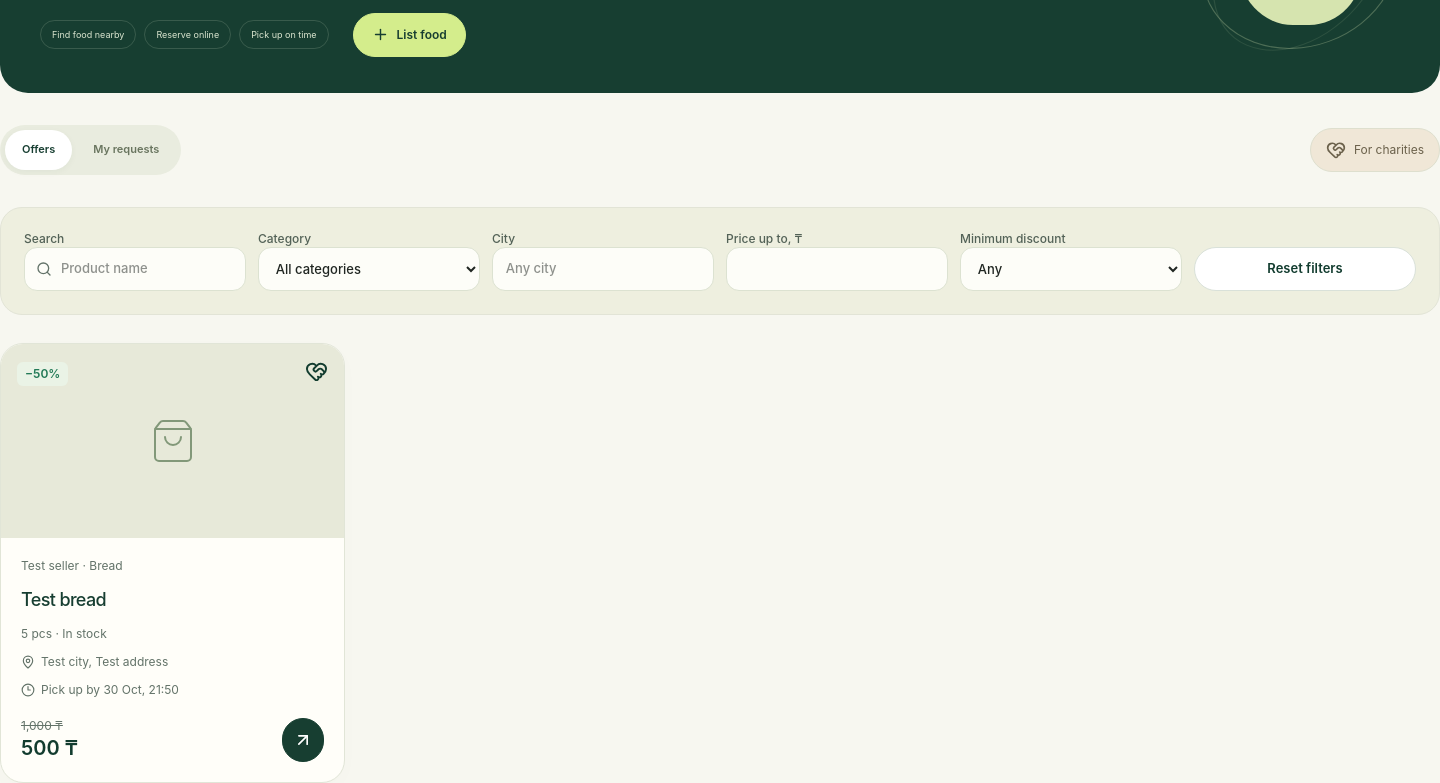
Test: SAVE in en › retries a reservation with the same key and translates backend errors and confirmation
This screenshot has width=1440, height=783.
(page scrolled)
Click the button named "View offer".
click(303, 740)  # box top-left (282, 718), bottom-right (324, 762)
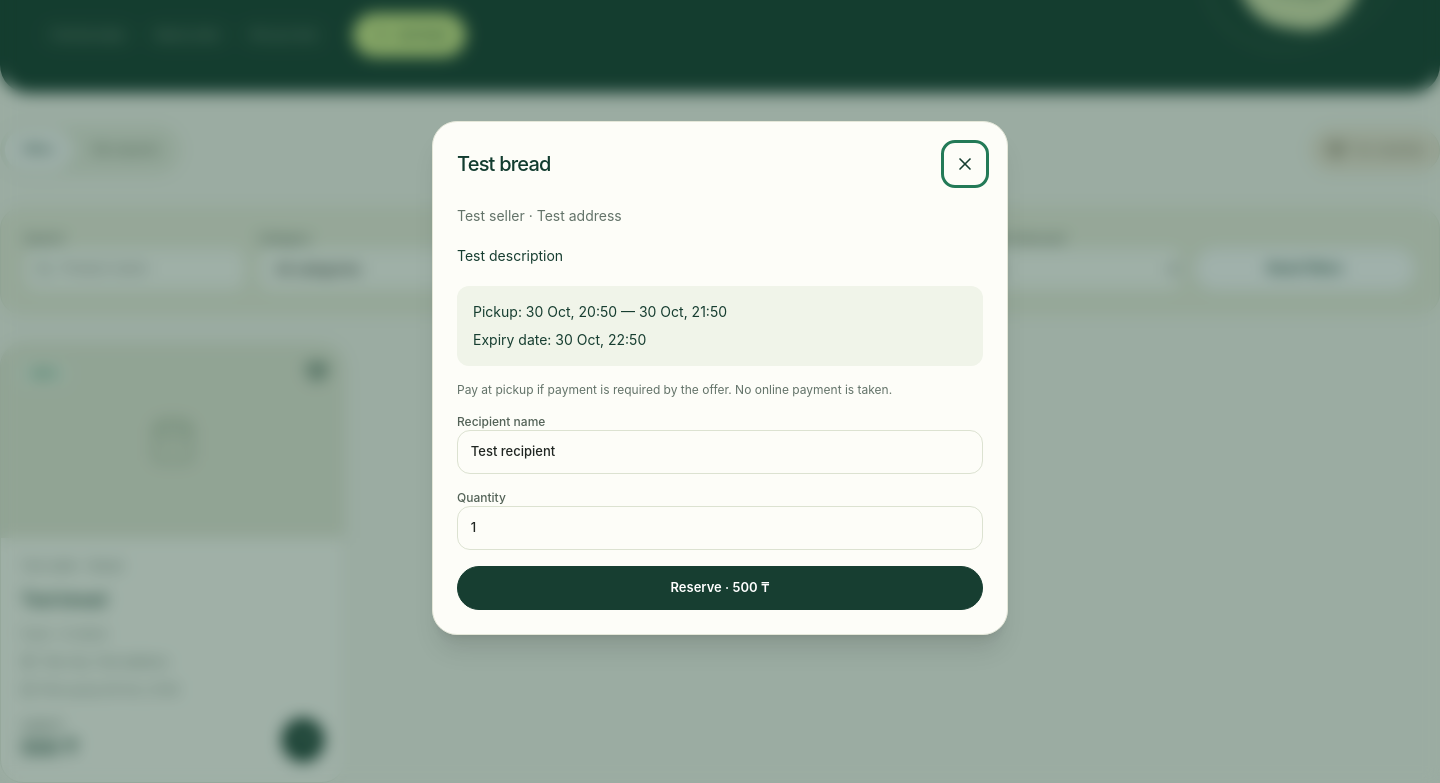
Click the button "Reserve · 500 ₸".
click(720, 588)  # box top-left (457, 566), bottom-right (983, 610)
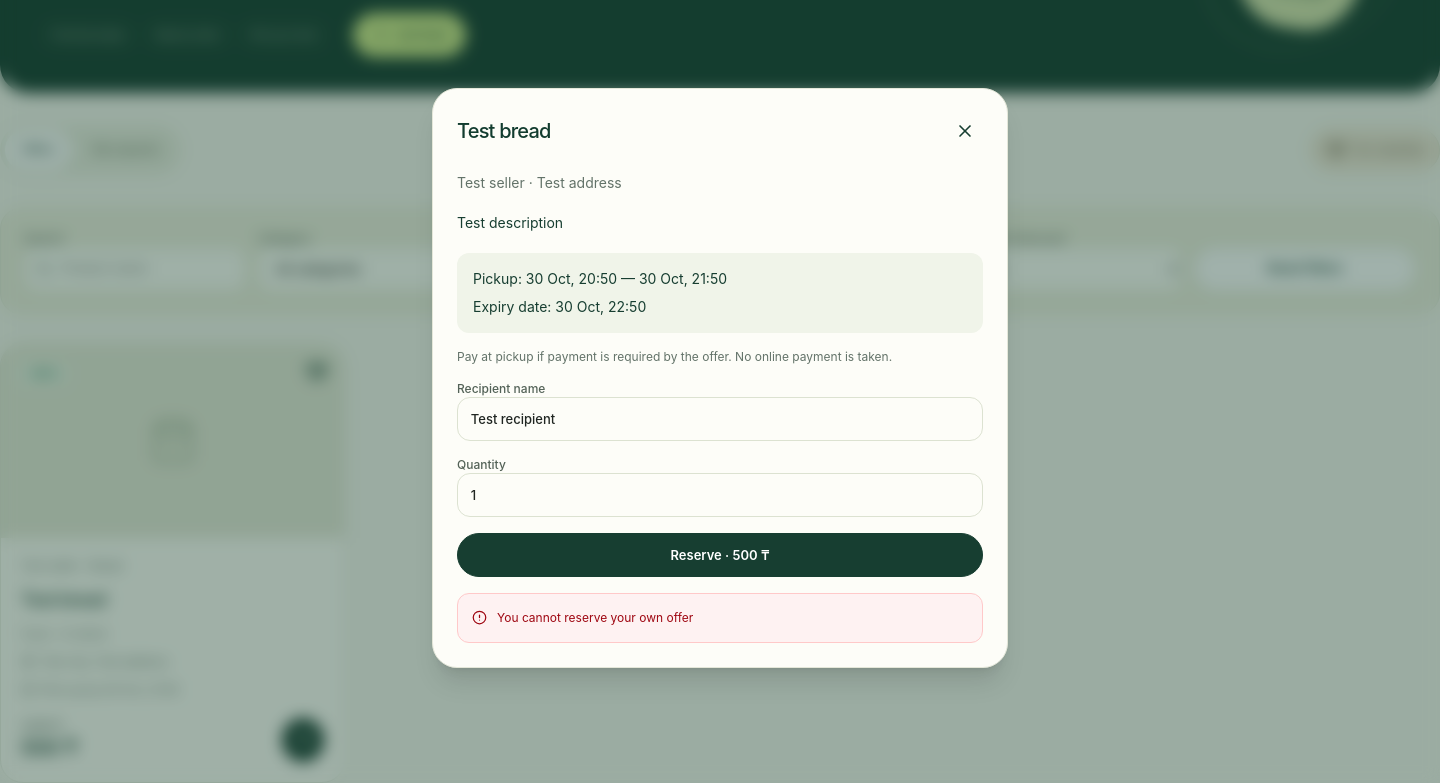
Expected: the text "You cannot reserve your own offer" is shown, top-left (497, 608), bottom-right (693, 628)
Click the button "Reserve · 500 ₸".
click(720, 555)  # box top-left (457, 533), bottom-right (983, 577)
(page scrolled)
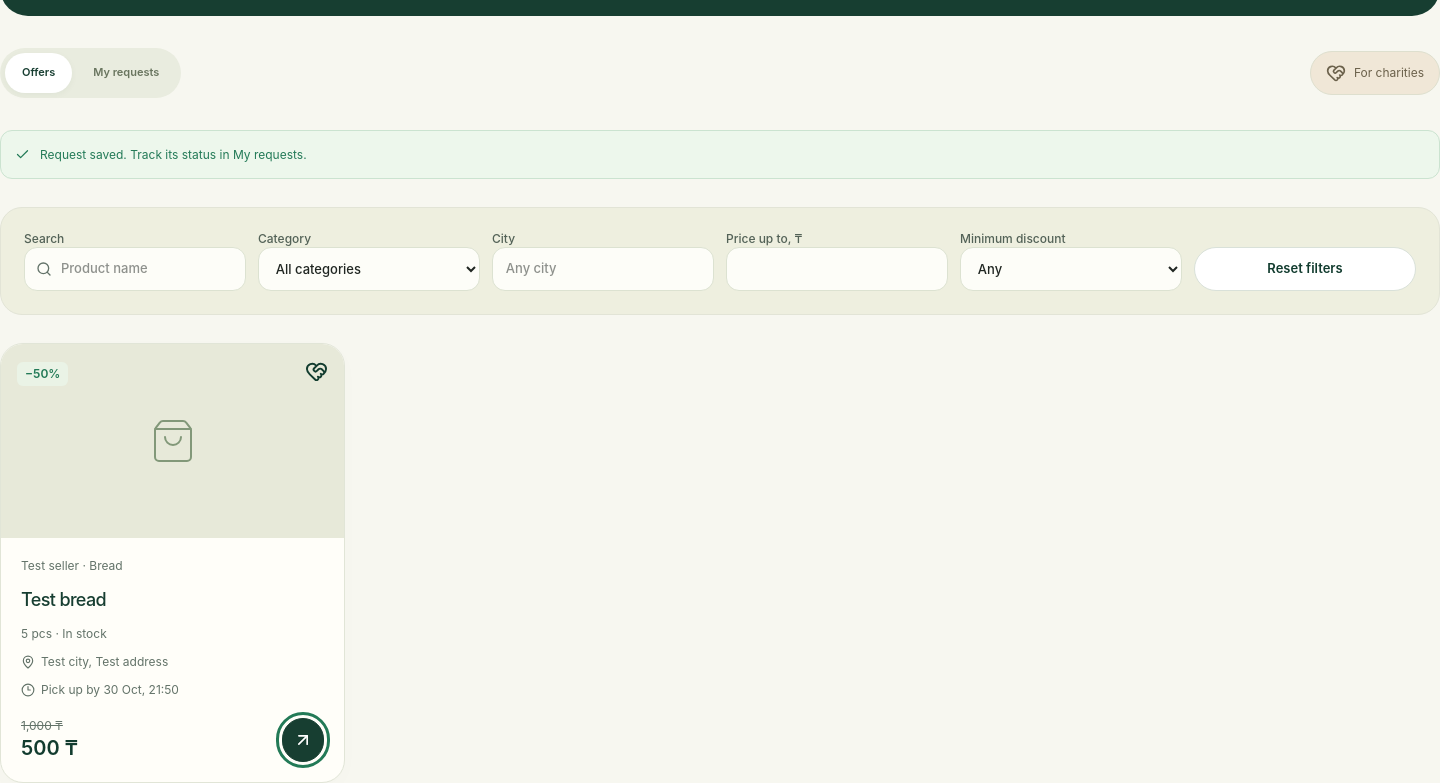
Expected: the text "Request saved. Track its status in My requests." is shown, top-left (40, 145), bottom-right (307, 164)
